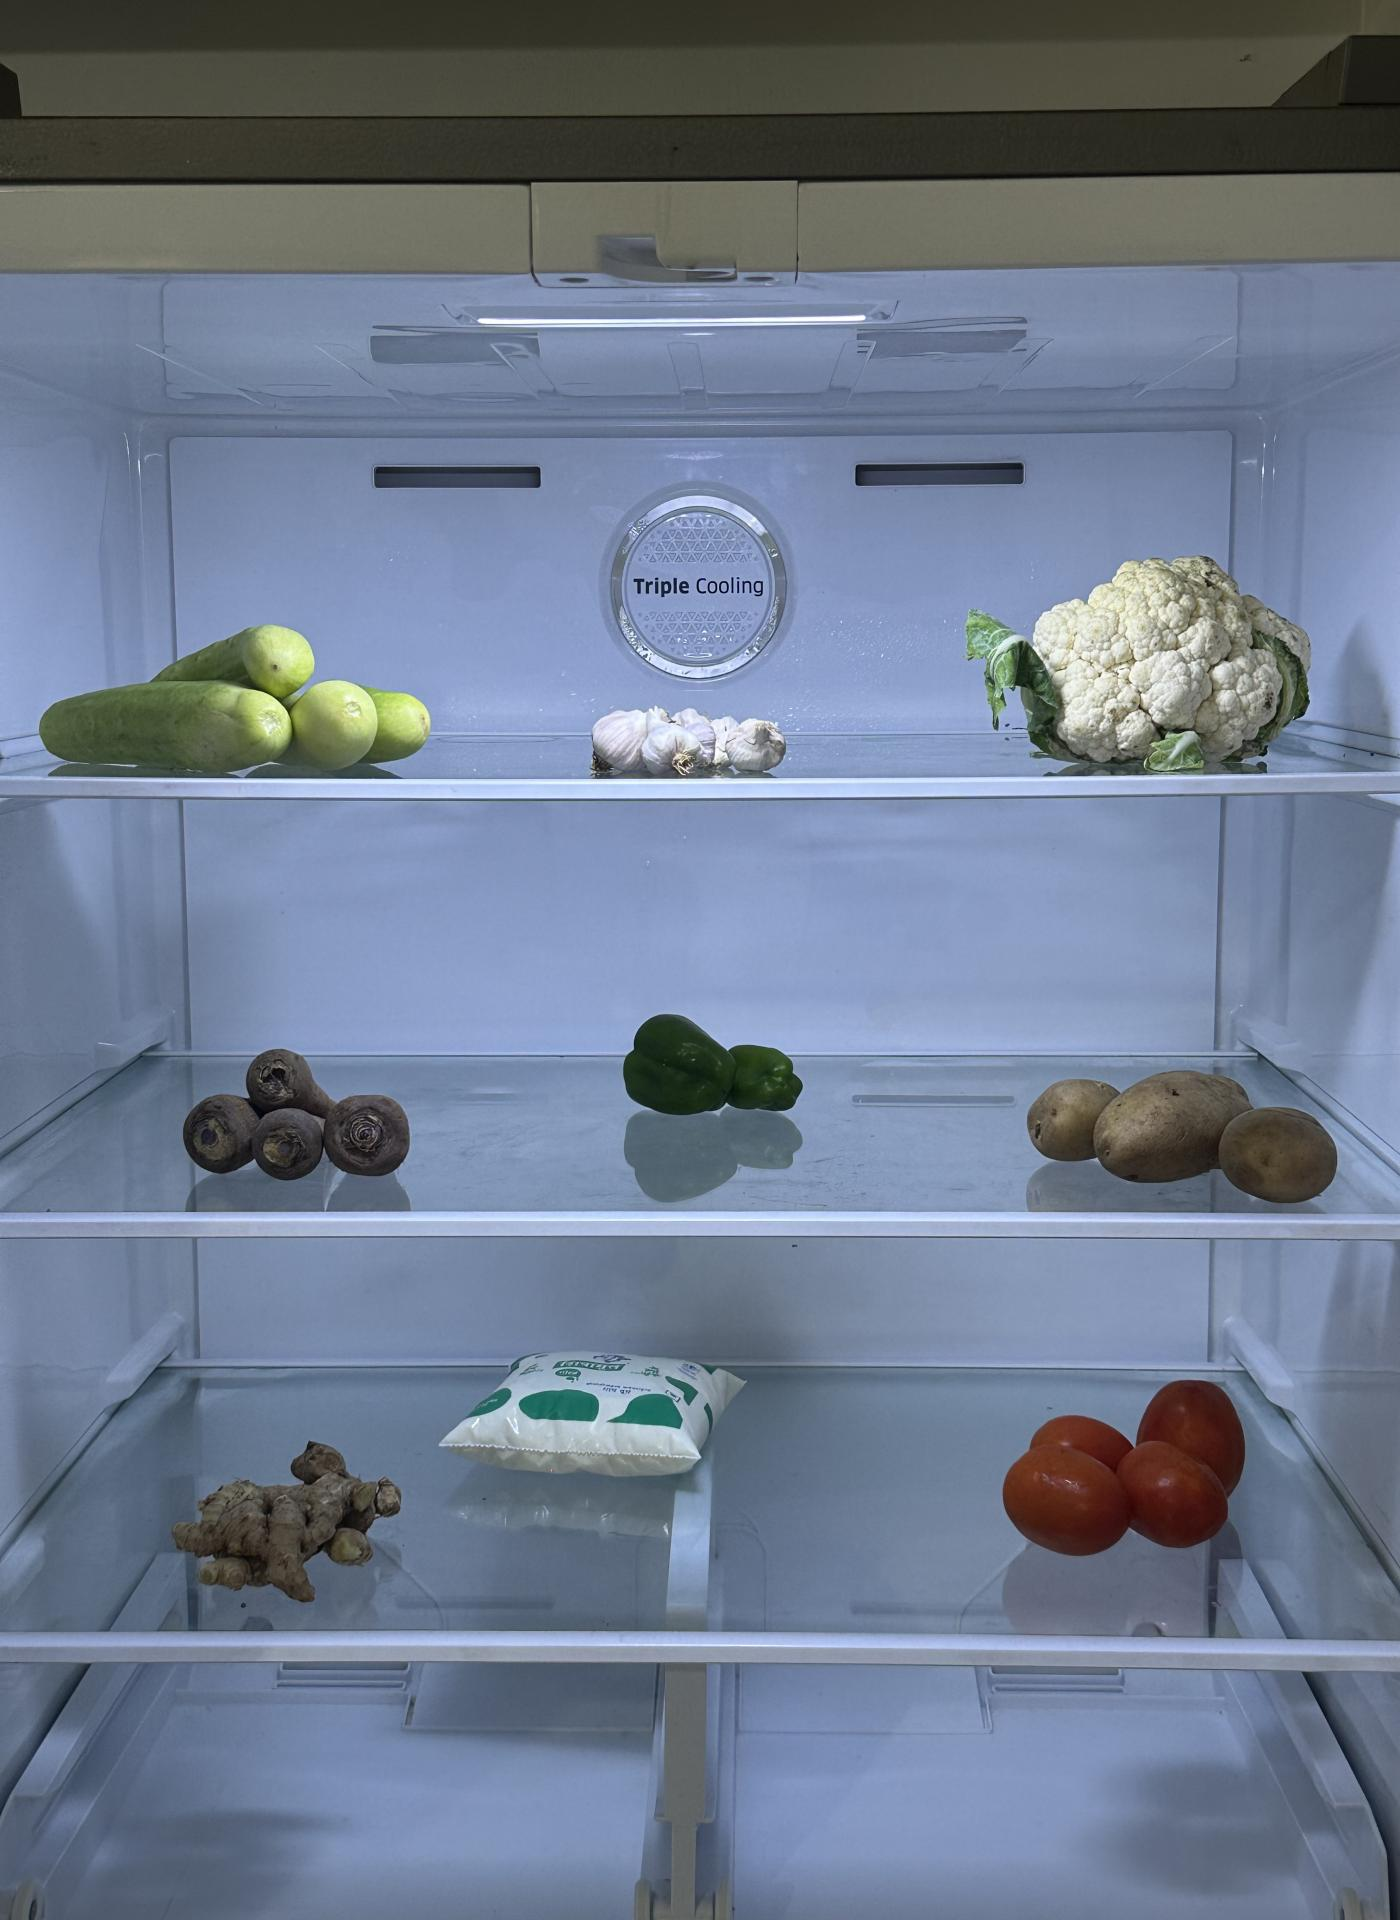capsicum: (616, 1012, 804, 1122)
carrots: (177, 1039, 417, 1187)
cauliflower: (1021, 547, 1321, 766)
cucumber: (28, 628, 423, 798)
garlic: (587, 704, 790, 781)
ginger: (171, 1436, 410, 1600)
milk: (444, 1339, 747, 1479)
potato: (1024, 1054, 1340, 1203)
tomato: (997, 1374, 1249, 1558)
